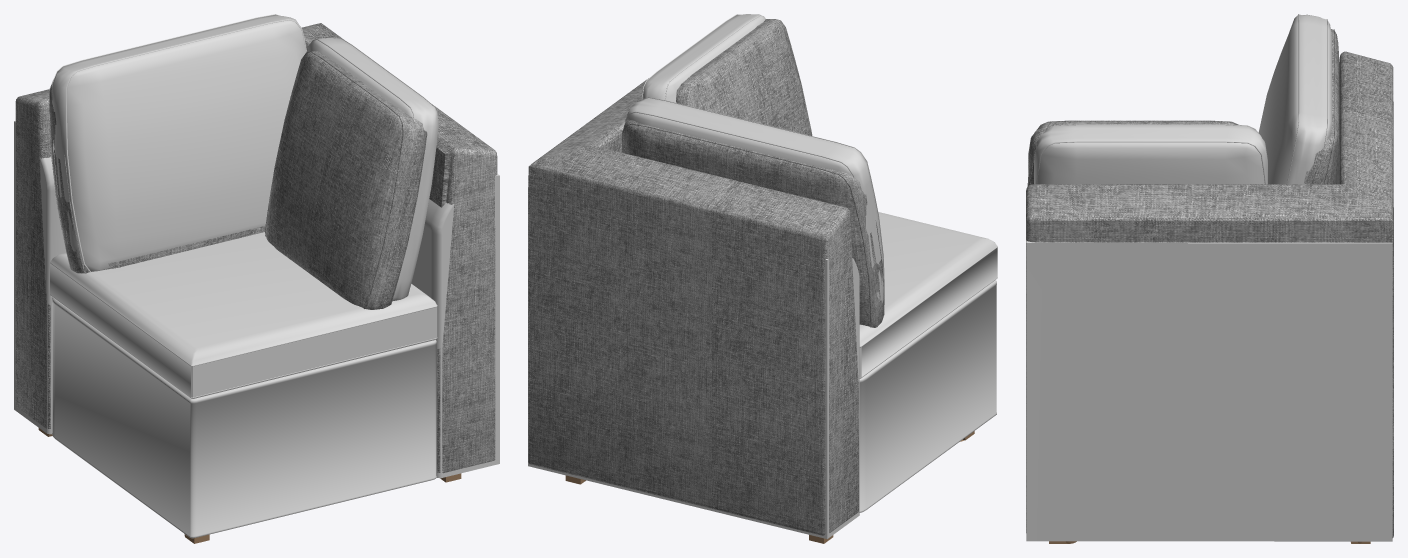
Rendered from cornerL.gltf.
3 views of the same model, side by side, from view 1: azimuth 30°, elevation 25°; view 2: azimuth 150°, elevation 25°; view 3: azimuth 270°, elevation 25° (orthographic). The views are drawn at different scales.
Parts seen in each view (by area): view 1: pillow (×2), Bottom, SingleSeat, Back2, back.1, pillow.1 (×2), Sweep (×2); view 2: Back2, Bottom, pillow (×2), pillow.1 (×2), SingleSeat, back.1, Sweep (×2); view 3: back.1, Back2, pillow.1 (×2), pillow (×2), Sweep.
Boxes of the visible parts, box(x1,y1,x2,y2) form: pillow (×2): box(52, 14, 426, 309); Bottom: box(52, 297, 436, 538); SingleSeat: box(50, 232, 437, 398); Back2: box(15, 23, 497, 473); back.1: box(14, 121, 499, 478); pillow.1 (×2): box(49, 38, 438, 301); Sweep (×2): box(52, 14, 427, 308); Back2: box(528, 78, 858, 535); Bottom: box(859, 280, 996, 512); pillow (×2): box(626, 19, 883, 302); pillow.1 (×2): box(623, 14, 883, 327); SingleSeat: box(859, 212, 997, 378); back.1: box(528, 187, 859, 539); Sweep (×2): box(622, 97, 884, 327); back.1: box(1026, 240, 1392, 541); Back2: box(1026, 51, 1393, 537); pillow.1 (×2): box(1034, 29, 1338, 184); pillow (×2): box(1028, 14, 1331, 185); Sweep: box(1036, 124, 1265, 184).
Bounding box in the file's own units: 0.7649 × 0.9082 × 0.7611.
4 materials, 1 textured.
